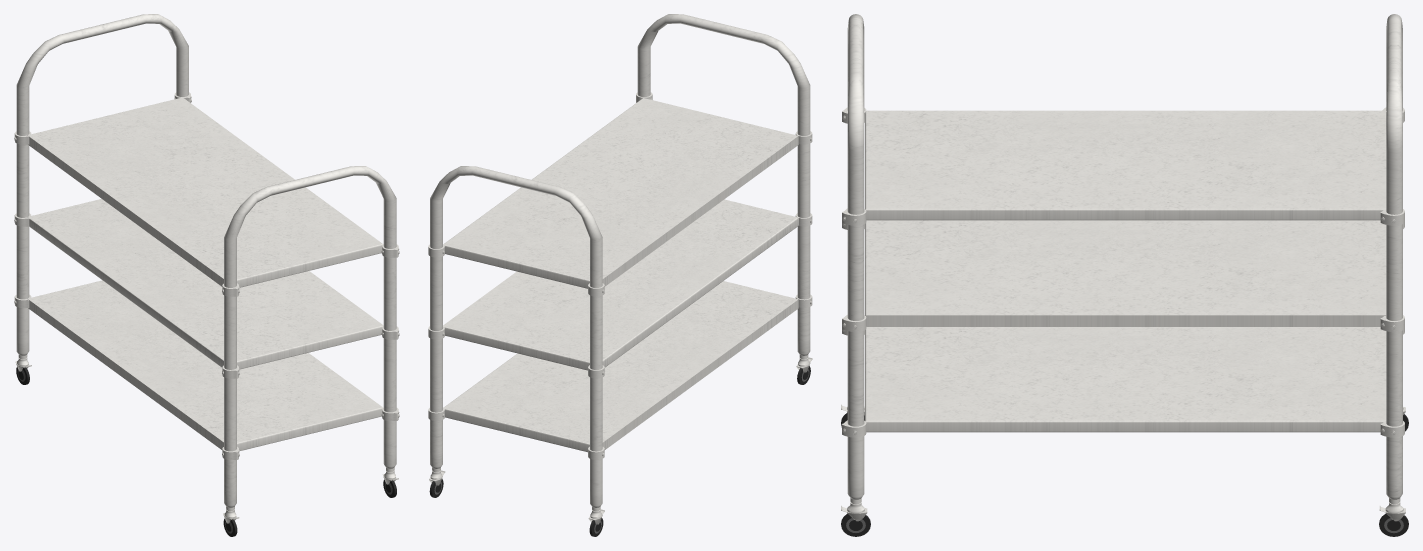
File: treolly.fbx
3 views of the same model, side by side, from view 1: azimuth 30°, elevation 25°; view 2: azimuth 150°, elevation 25°; view 3: azimuth 270°, elevation 25° (orthographic). The views are drawn at different scales.
Visible parts, largest first — view 1: polySurface4; view 2: polySurface4; view 3: polySurface4.
Part boxes in pixels (box(x1,y1,x2,y2)): polySurface4: box(14, 14, 399, 536); polySurface4: box(428, 14, 812, 536); polySurface4: box(841, 14, 1408, 536).
Size of the model in its own units: 1.13 by 2.08 by 2.43.
